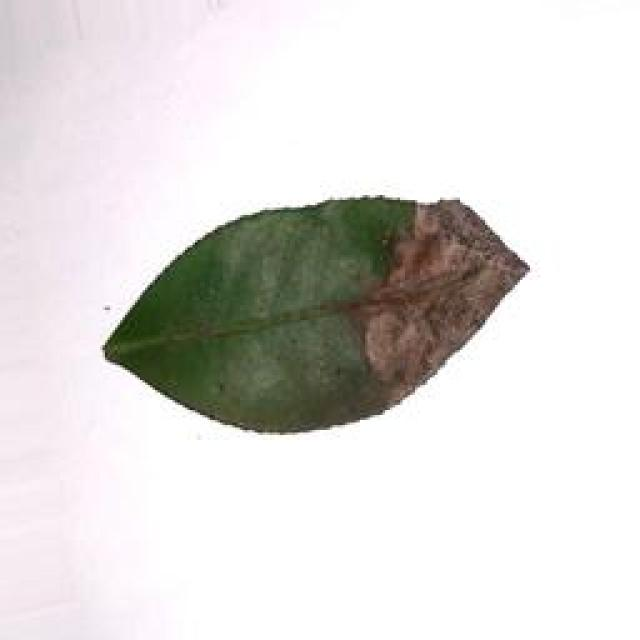Brown Blight: (87, 186, 534, 458)
